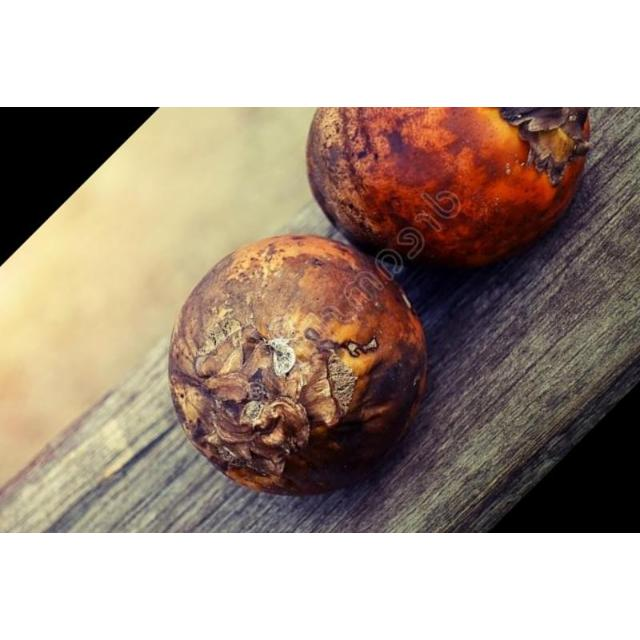damaged: (168, 235, 426, 494), (307, 107, 590, 265)
